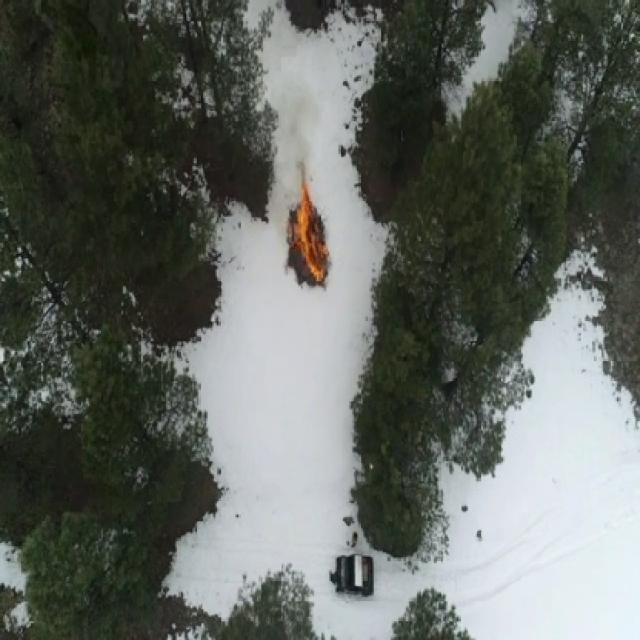Fire: (286, 160, 331, 285)
